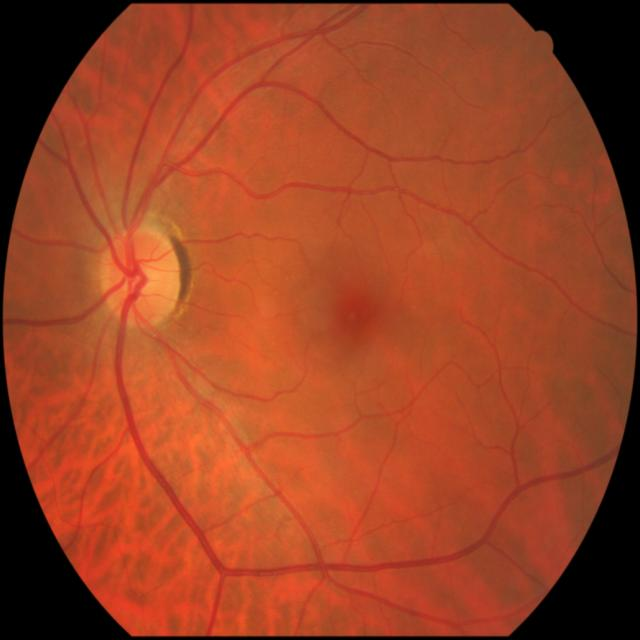OC: (130, 263, 154, 292)
OD: (100, 226, 183, 326)
